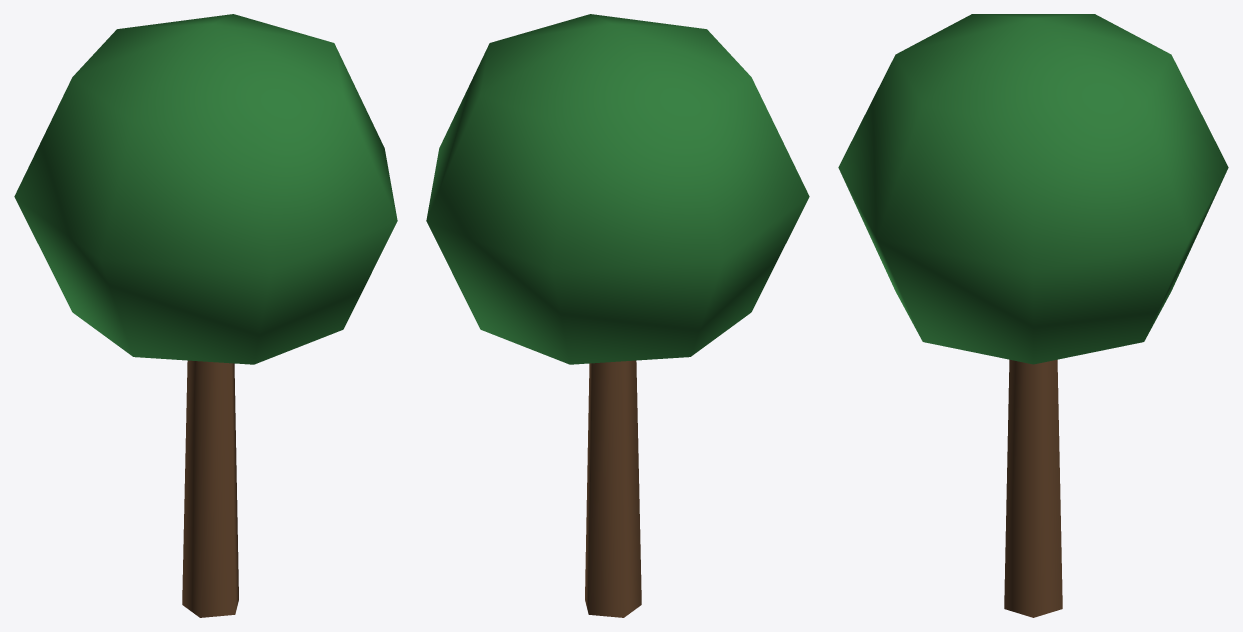
File: tree_rainforest_small.glb
3 views of the same model, side by side, from view 1: azimuth 30°, elevation 25°; view 2: azimuth 150°, elevation 25°; view 3: azimuth 270°, elevation 25° (orthographic).
Parts seen in each view (by area): view 1: tree_rainforest_small; view 2: tree_rainforest_small; view 3: tree_rainforest_small.
Boxes of the visible parts, x1,y1,x2,y2 form: tree_rainforest_small: (14,14,397,617); tree_rainforest_small: (426,14,809,617); tree_rainforest_small: (838,14,1228,617).
Bounding box in the file's own units: 0.2471 × 0.42 × 0.2535.
